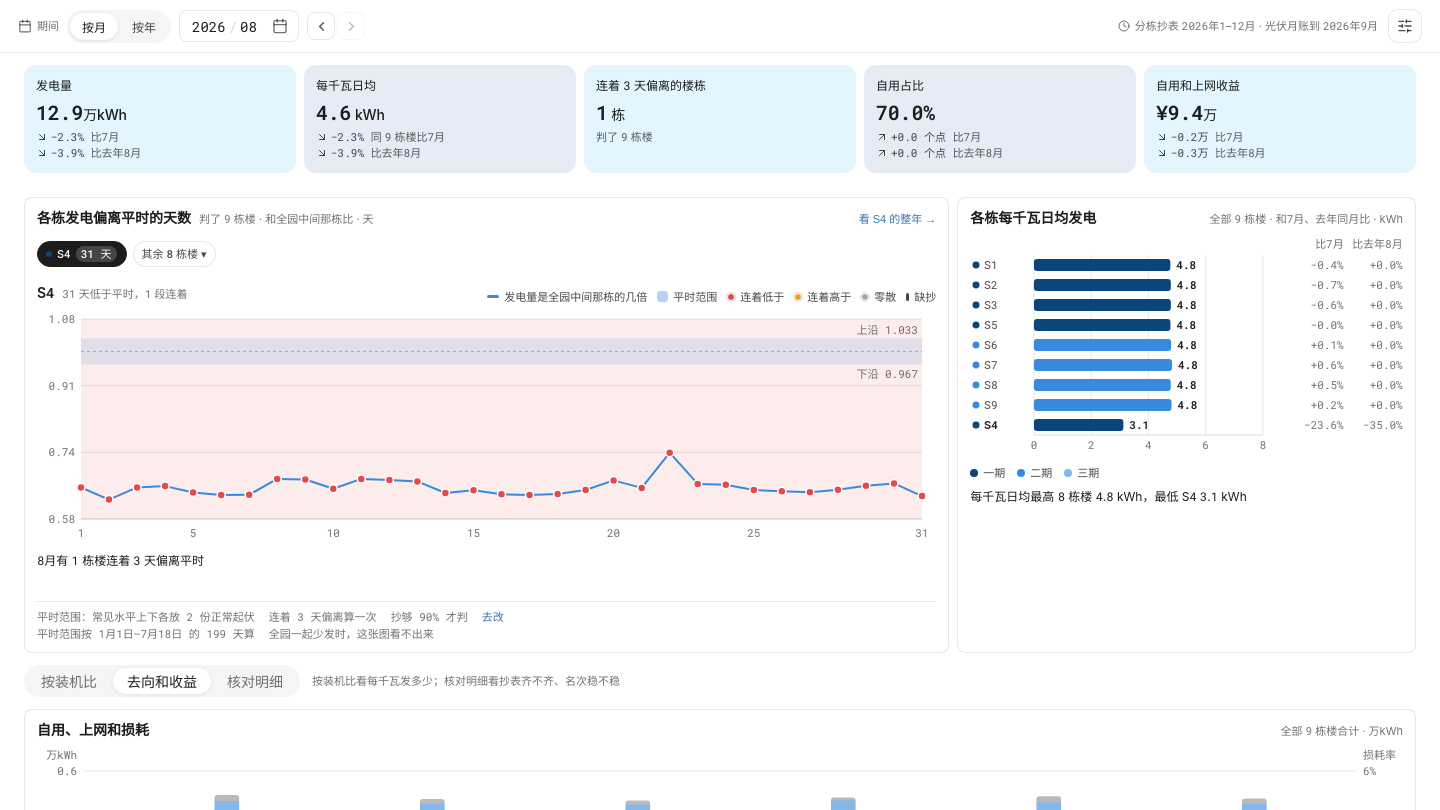
光伏分栋分析 · 四个状态各自渲染什么 › 按装机比:B3 + A2 + B6 三张 s12(2026-10-06 改稿卡名);去向和收益那两张不在
Click the tab "按装机比". click: {"x": 69, "y": 681}
box: [27, 668, 111, 694]
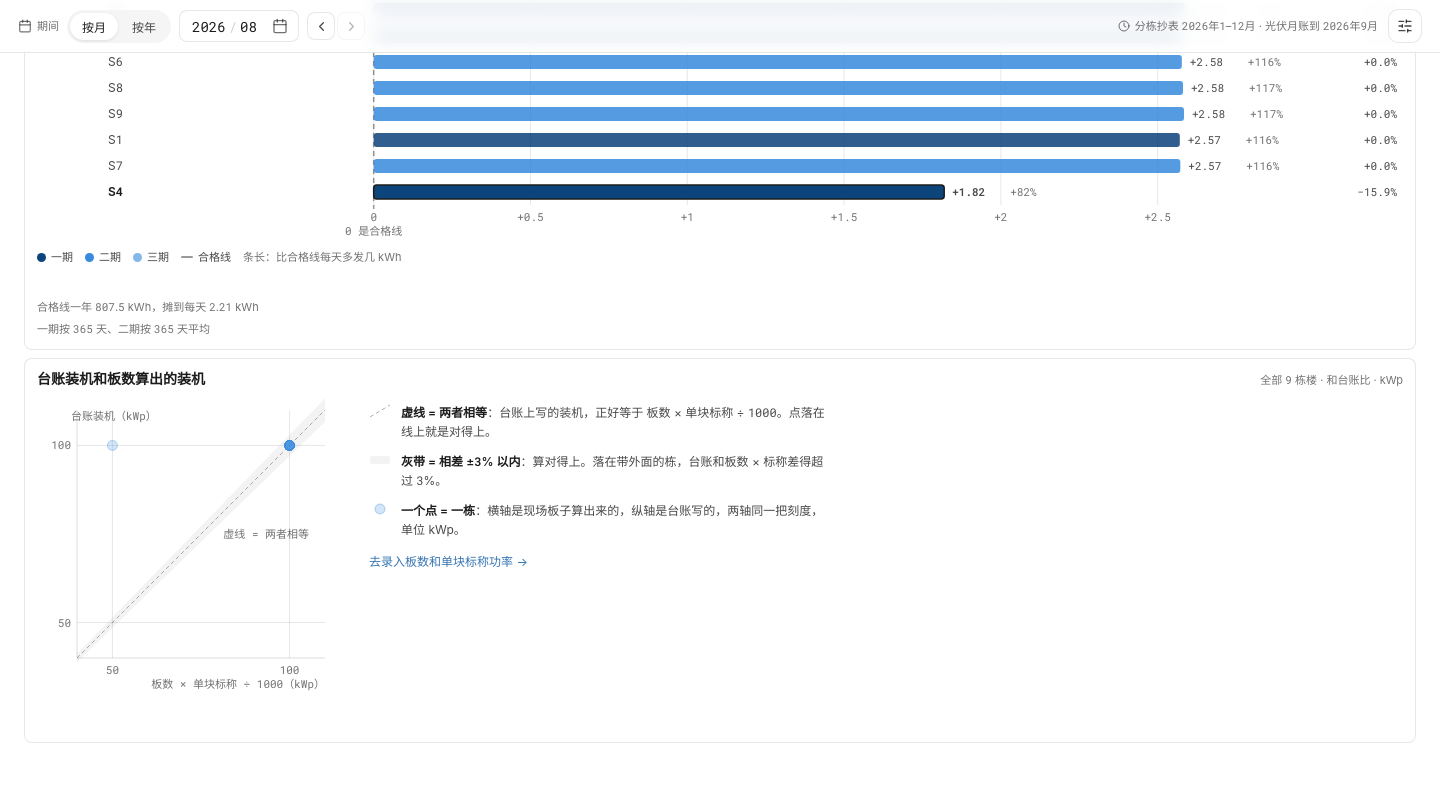
expect the element that starts with "虚线 = 两者相等" is shown: met, box [37, 398, 825, 732]
